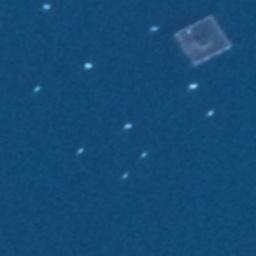square_cover: (171, 10, 239, 67)
